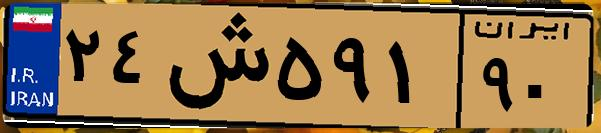0: (525, 38, 570, 115)
1: (385, 28, 445, 110)
2: (57, 26, 110, 100)
4: (110, 28, 158, 98)
5: (270, 28, 330, 110)
9: (330, 28, 385, 110), (475, 38, 525, 113)
ش: (158, 12, 270, 120)
